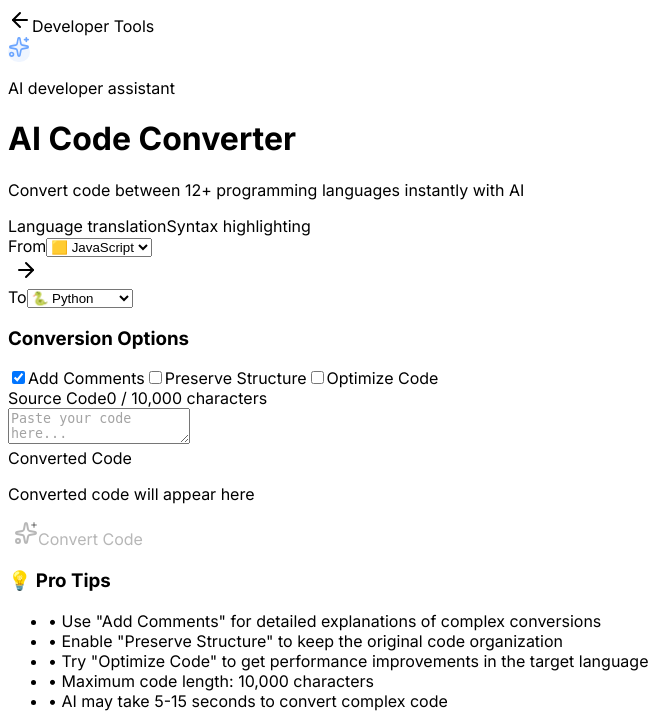
Test: AICodeConverterPage › Language Selection › swaps languages when swap button is clicked
The width and height of the screenshot is (665, 728).
Expected: the dropdown labelled "From" shows "🟨 JavaScript", [46,238,152,257]
Expected: the dropdown labelled "To" shows "🐍 Python", [27,289,133,308]
Click the button named "Swap languages": [26, 272] box [8,257,44,287]
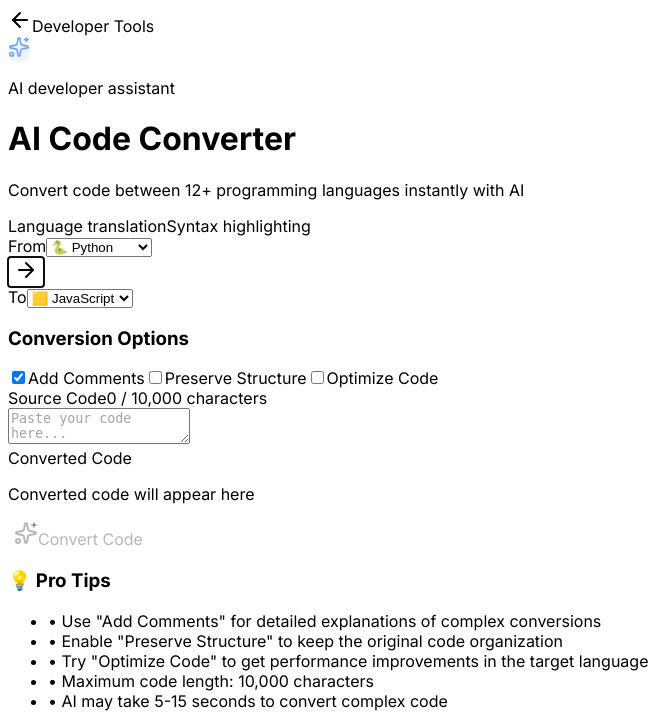
Expected: the dropdown labelled "From" shows "🐍 Python", [46,238,152,257]
Expected: the dropdown labelled "To" shows "🟨 JavaScript", [27,289,133,308]
